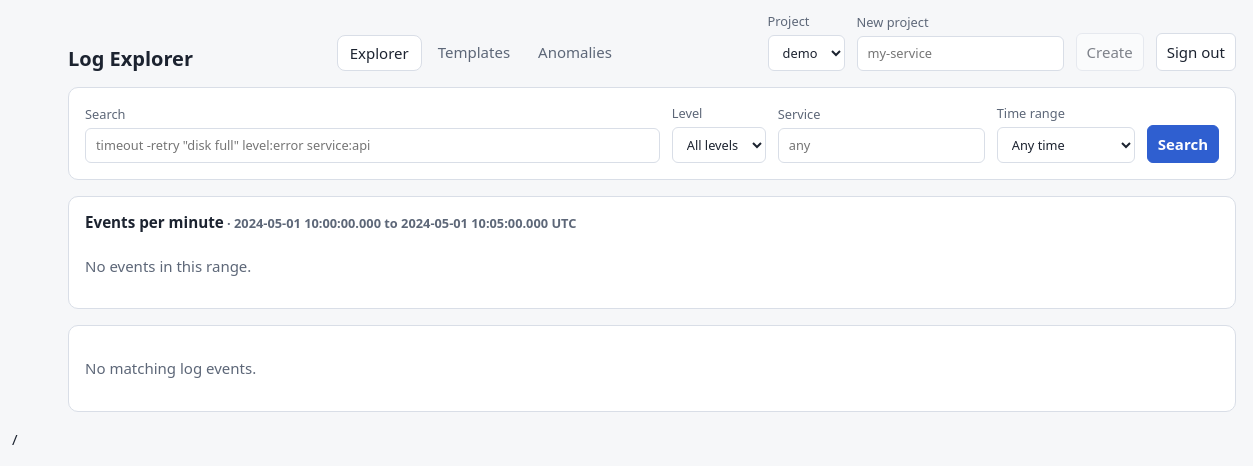
Test: projects › switches project and reloads
Expected: the text "No matching log events." is shown, [85,358,256,378]
Select "other" in the dropdown labelled "Project" at (806, 53), box [768,35,845,71]
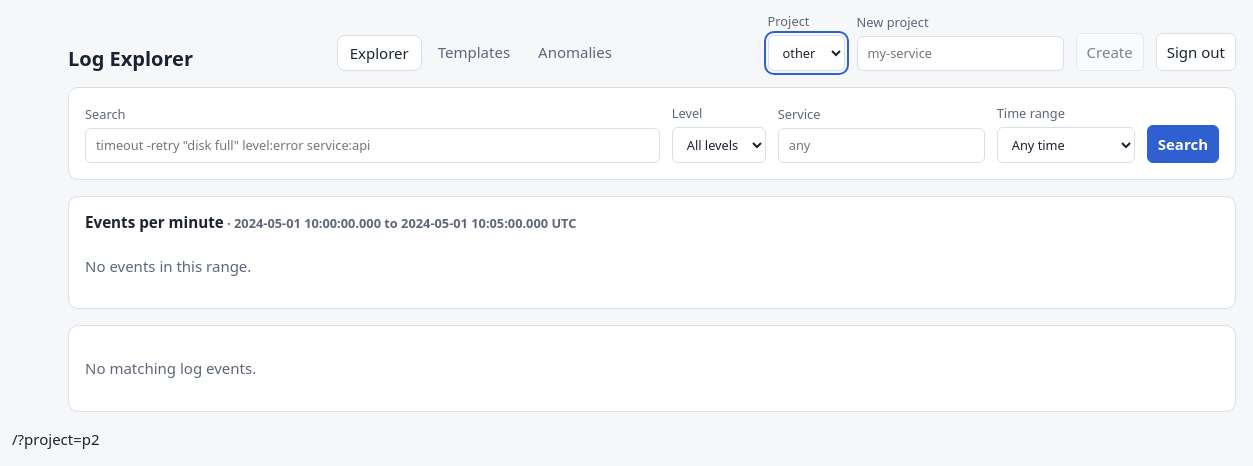
Expected: the text with test id "location" shows "project=p2", [12,429,100,449]
